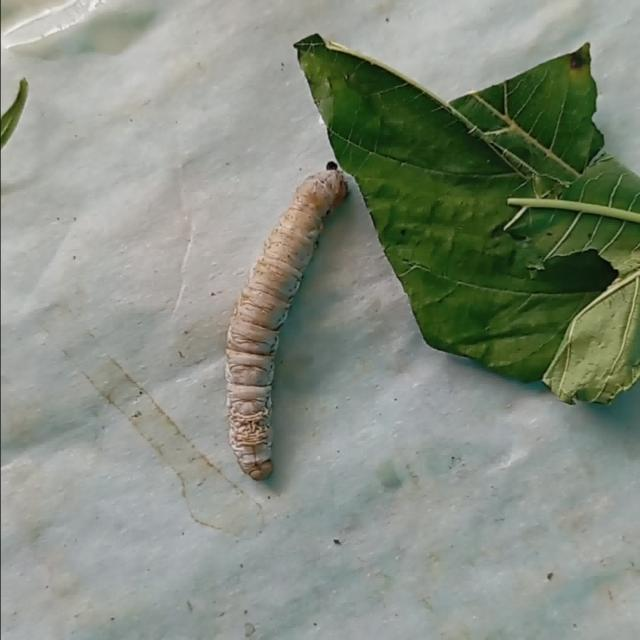Grasserie: (216, 147, 353, 490)
